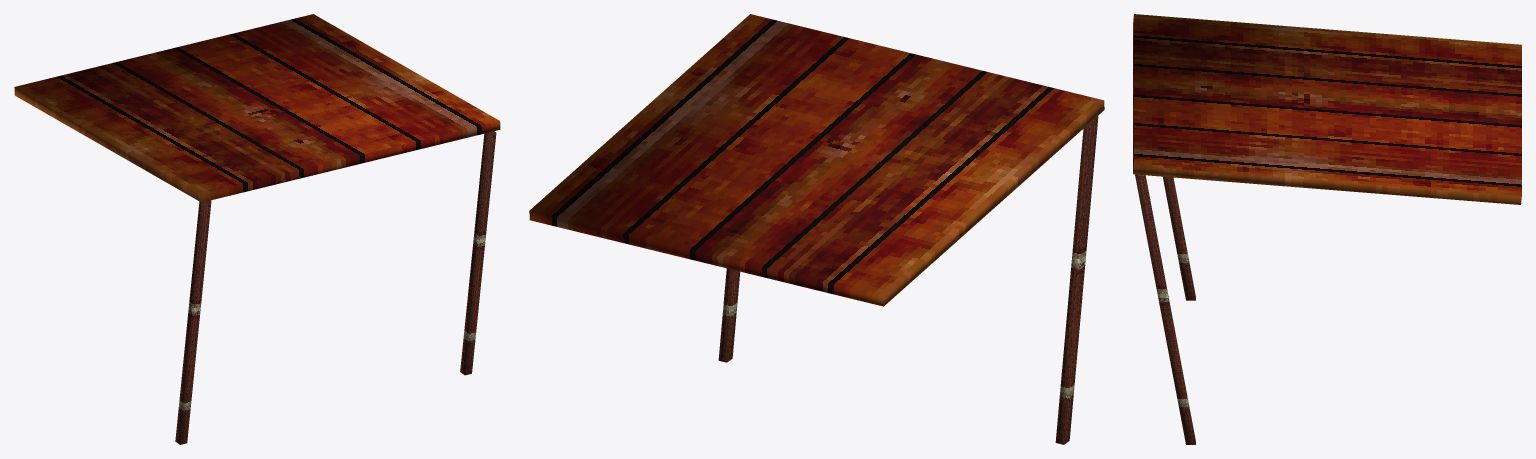
Rendered from LEANTO5_ACTORDEF.fbx.
3 renders of one model, left to right at view 1: azimuth 30°, elevation 25°; view 2: azimuth 150°, elevation 25°; view 3: azimuth 270°, elevation 25°, orthographic. The views are drawn at different scales.
Parts seen in each view (by area): view 1: T_LEANTO3_MDF, T_COUNTERFRNT_MDF; view 2: T_LEANTO3_MDF, T_COUNTERFRNT_MDF; view 3: T_LEANTO3_MDF, T_COUNTERFRNT_MDF.
Boxes of the visible parts, x1=… form: T_LEANTO3_MDF: x1=14, y1=14, x2=500, y2=202; T_COUNTERFRNT_MDF: x1=175, y1=131, x2=496, y2=444; T_LEANTO3_MDF: x1=529, y1=14, x2=1104, y2=306; T_COUNTERFRNT_MDF: x1=718, y1=116, x2=1098, y2=444; T_LEANTO3_MDF: x1=1133, y1=14, x2=1521, y2=204; T_COUNTERFRNT_MDF: x1=1135, y1=174, x2=1195, y2=444.
Bounding box in the file's own units: 13.98 × 12.08 × 15.15.
